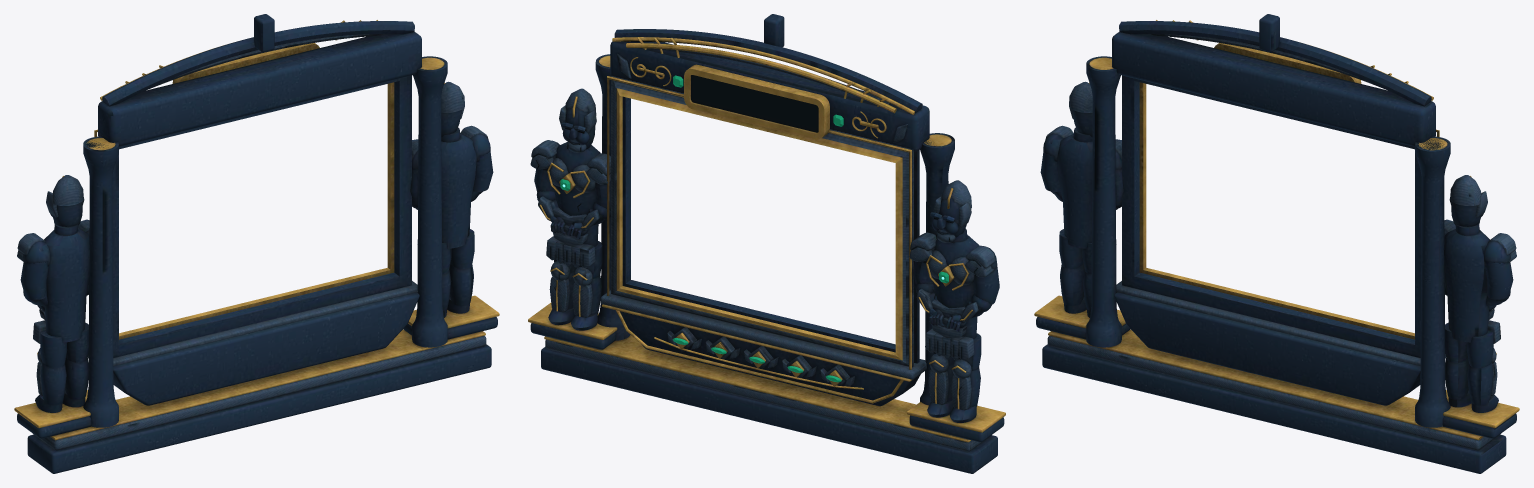
3 renders of one model, left to right at view 1: azimuth 30°, elevation 25°; view 2: azimuth 150°, elevation 25°; view 3: azimuth 330°, elevation 25°, orthographic.
Visible parts, largest first — view 1: Weathered_navy_sanctuary, Worn_oath_gold, Sculpted_blue_slate; view 2: Weathered_navy_sanctuary, Sculpted_blue_slate, Worn_oath_gold, Uniform_dark_inset, glow_Emerald_covenant; view 3: Weathered_navy_sanctuary, Worn_oath_gold, Sculpted_blue_slate.
Part boxes in pixels (x1=…): Weathered_navy_sanctuary: x1=17, y1=14, x2=497, y2=473; Worn_oath_gold: x1=14, y1=20, x2=499, y2=440; Sculpted_blue_slate: x1=17, y1=34, x2=488, y2=450; Weathered_navy_sanctuary: x1=530, y1=14, x2=1004, y2=473; Sculpted_blue_slate: x1=530, y1=42, x2=995, y2=451; Worn_oath_gold: x1=528, y1=37, x2=1005, y2=442; Uniform_dark_inset: x1=532, y1=75, x2=981, y2=395; glow_Emerald_covenant: x1=560, y1=75, x2=948, y2=382; Weathered_navy_sanctuary: x1=1036, y1=14, x2=1516, y2=473; Worn_oath_gold: x1=1034, y1=20, x2=1519, y2=440; Sculpted_blue_slate: x1=1045, y1=34, x2=1516, y2=450.
Bounding box in the file's own units: 11.46 × 9.3 × 1.33.
6 materials, 4 textured.
